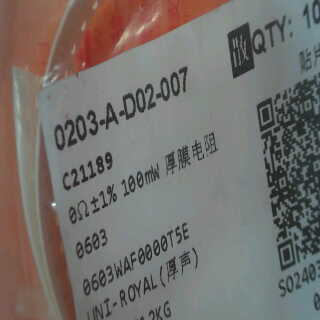0R: (55, 184, 124, 265)
